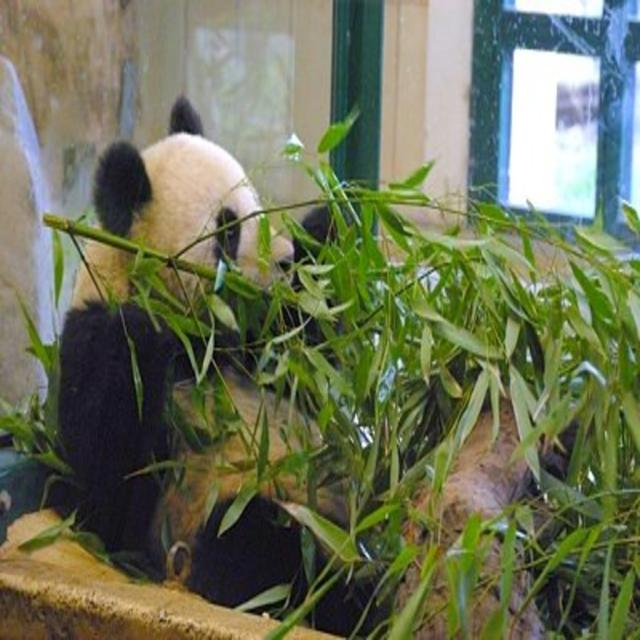panda: (58, 92, 426, 638)
